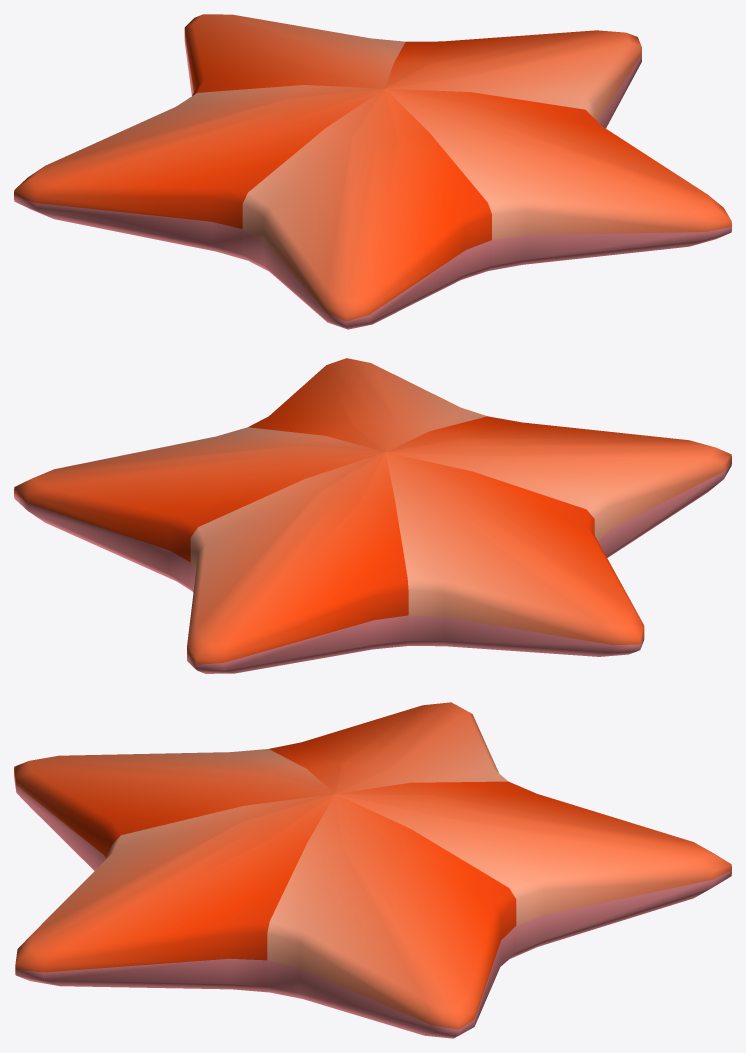
File: Star_02.fbx
3 views of the same model, one above another, from view 1: azimuth 30°, elevation 25°; view 2: azimuth 150°, elevation 25°; view 3: azimuth 270°, elevation 25° (orthographic). The views are drawn at different scales.
Parts seen in each view (by area): view 1: Star_02; view 2: Star_02; view 3: Star_02.
Boxes of the visible parts, bbox=[...] form: Star_02: bbox=[14, 14, 731, 329]; Star_02: bbox=[14, 358, 731, 673]; Star_02: bbox=[14, 702, 731, 1038].
Bounding box in the file's own units: 84.97 × 16.26 × 80.89.
